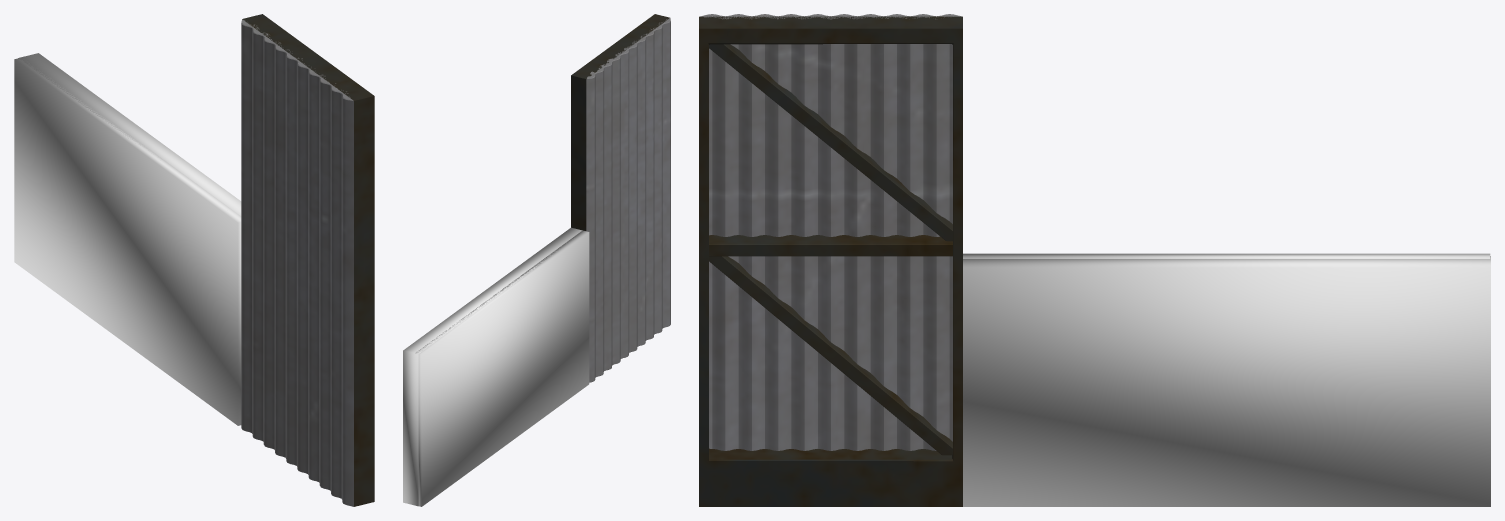
File: SM_Wall_Half.fbx
3 views of the same model, side by side, from view 1: azimuth 30°, elevation 25°; view 2: azimuth 150°, elevation 25°; view 3: azimuth 270°, elevation 25° (orthographic). The views are drawn at different scales.
Visible parts, largest first — view 1: SM_Wall_Half, SM_Wall_Half_ConvexHulls; view 2: SM_Wall_Half_ConvexHulls, SM_Wall_Half; view 3: SM_Wall_Half_ConvexHulls, SM_Wall_Half.
Part boxes in pixels (box(x1,y1,x2,y2)): SM_Wall_Half: box(241, 14, 374, 506); SM_Wall_Half_ConvexHulls: box(14, 53, 241, 425); SM_Wall_Half_ConvexHulls: box(403, 227, 589, 506); SM_Wall_Half: box(571, 14, 670, 382); SM_Wall_Half_ConvexHulls: box(963, 253, 1490, 506); SM_Wall_Half: box(699, 14, 962, 506).
Size of the model in its own units: 0.2 by 3 by 4.5.
